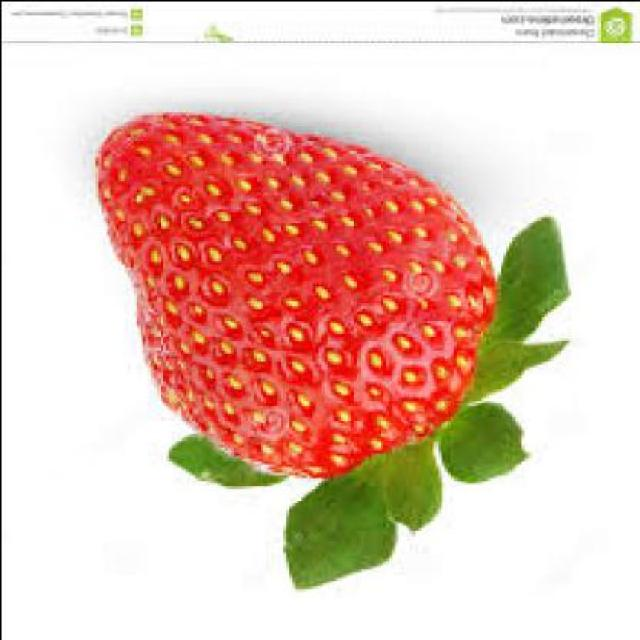BIODEGRADABLE: (94, 113, 575, 593)
